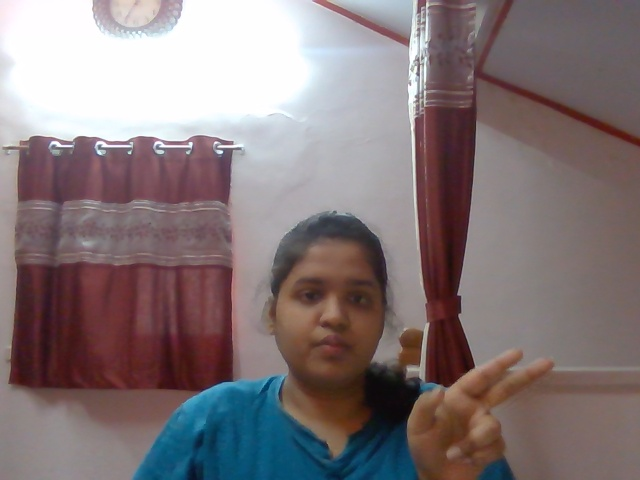h: (404, 348, 558, 471)
